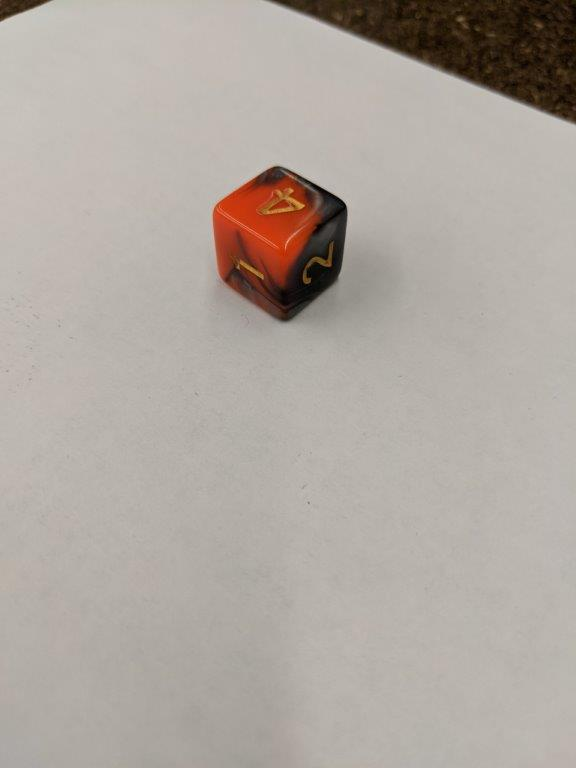d6-4: (215, 161, 347, 329)
